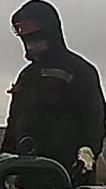gloves: (72, 144, 97, 182)
helmet: (11, 14, 47, 38)
vest: (4, 51, 105, 158)
